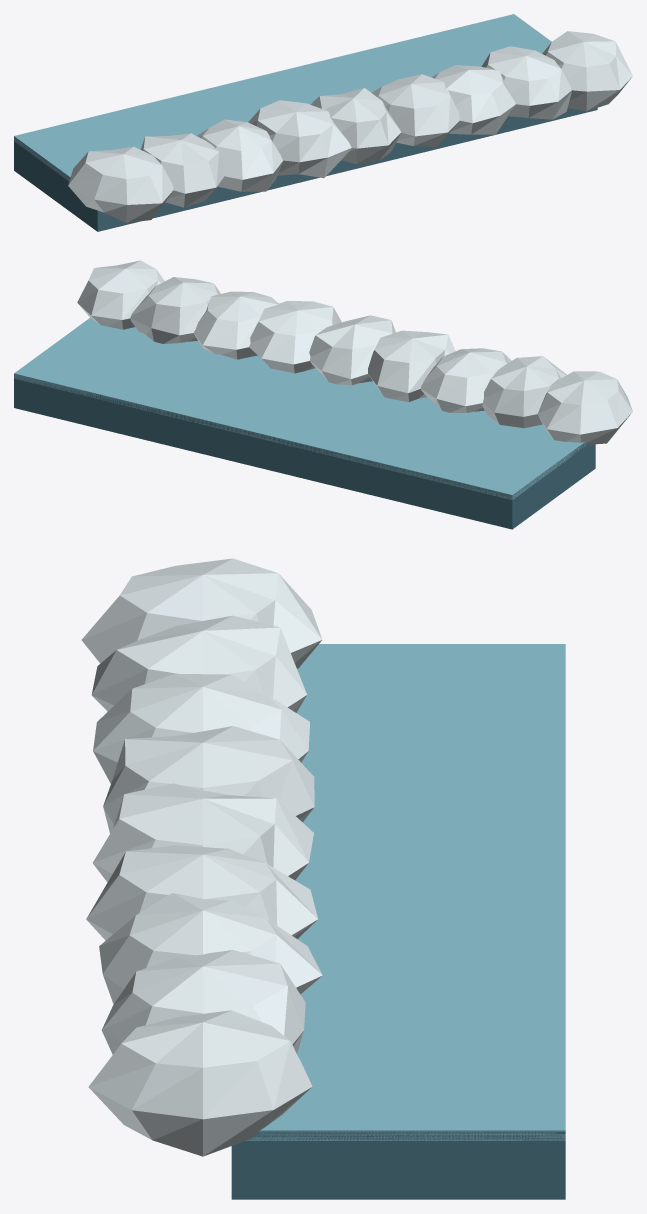
The model's file is ICE_11_IceShoreline.glb.
3 views of the same model, one above another, from view 1: azimuth 30°, elevation 25°; view 2: azimuth 150°, elevation 25°; view 3: azimuth 270°, elevation 25° (orthographic). The views are drawn at different scales.
Visible parts, largest first — view 1: ICE_11_IceShoreline; view 2: ICE_11_IceShoreline; view 3: ICE_11_IceShoreline.
Part boxes in pixels (x1,y1,x2,y2): ICE_11_IceShoreline: (14,14,632,231); ICE_11_IceShoreline: (14,260,632,529); ICE_11_IceShoreline: (81,558,565,1199).
Size of the model in its own units: 4.36 by 0.6 by 1.68.
